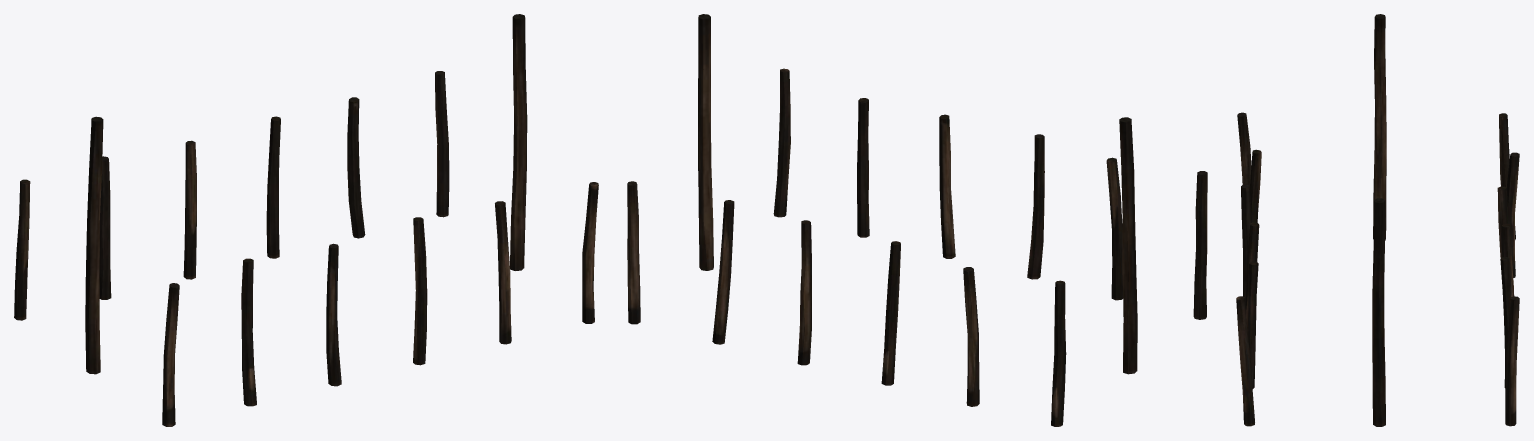
File: longhouse_posts.gltf
The picture shows the model from 3 angles, left to right: view 1: azimuth 30°, elevation 25°; view 2: azimuth 150°, elevation 25°; view 3: azimuth 270°, elevation 25°; orthographic projection. The views are drawn at different scales.
Parts seen in each view (by area): view 1: longhouse_posts; view 2: longhouse_posts; view 3: longhouse_posts.
Boxes of the visible parts, x1,y1,x2,y2 form: longhouse_posts: [14, 14, 598, 426]; longhouse_posts: [627, 14, 1207, 426]; longhouse_posts: [1236, 14, 1519, 426].
Size of the model in its own units: 6.22 by 3.41 by 3.89.
2 materials, 2 textured.
